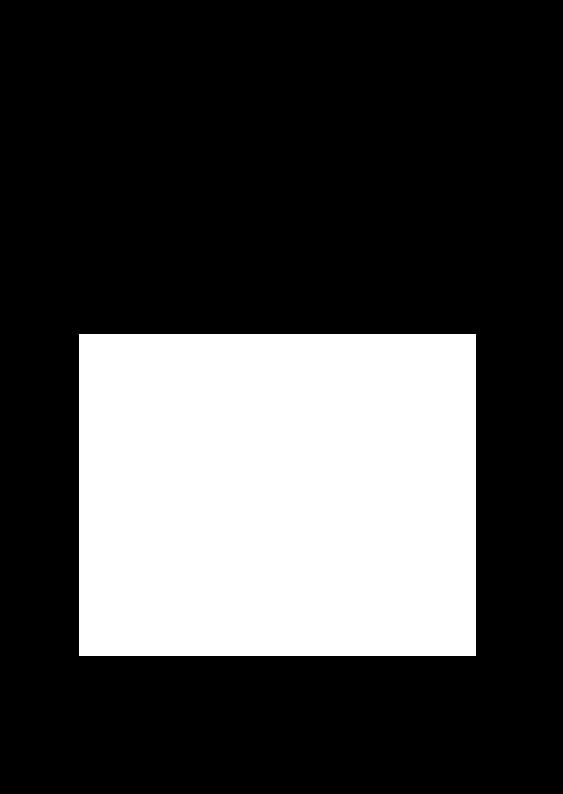table: (79, 334, 475, 655)
